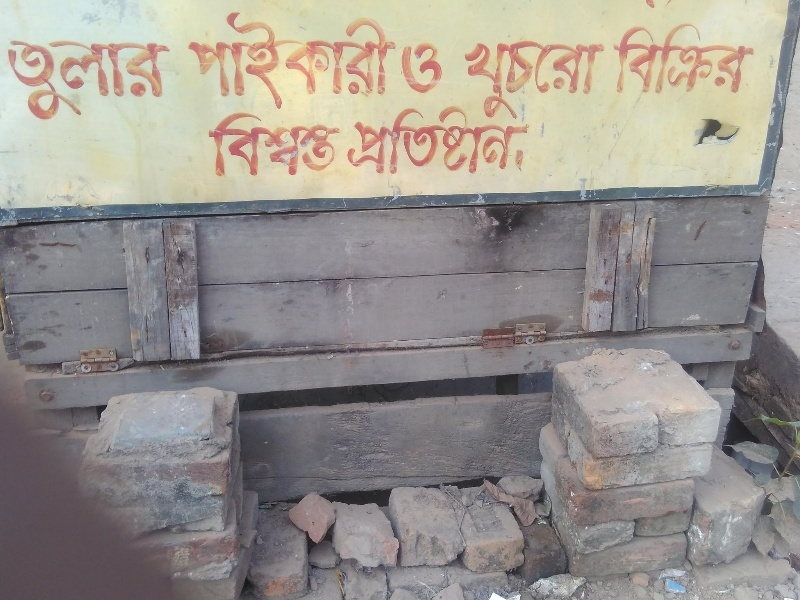text: (193, 7, 208, 116), (209, 7, 224, 116), (225, 7, 240, 116), (241, 7, 256, 116), (257, 7, 272, 116), (273, 7, 288, 116), (289, 7, 304, 116), (305, 7, 320, 116), (321, 7, 336, 116), (337, 7, 352, 116), (353, 7, 368, 116), (369, 7, 384, 116), (385, 7, 398, 116), (17, 36, 32, 128), (33, 36, 48, 128), (49, 36, 64, 128), (65, 36, 80, 128), (81, 36, 96, 128), (97, 36, 112, 128), (113, 36, 128, 128), (129, 36, 144, 128), (145, 36, 160, 128), (465, 38, 480, 120), (481, 38, 496, 120), (497, 38, 512, 120), (513, 38, 528, 120), (529, 38, 544, 120), (545, 38, 560, 120), (561, 38, 576, 120), (577, 38, 592, 120), (593, 38, 608, 120), (625, 23, 640, 99), (641, 23, 656, 99), (657, 23, 672, 99), (673, 23, 688, 99), (689, 23, 704, 99), (705, 23, 720, 99), (721, 23, 736, 99), (737, 23, 752, 99), (209, 109, 224, 185), (225, 109, 240, 185), (241, 109, 256, 185), (257, 109, 272, 185), (273, 109, 288, 185), (289, 109, 304, 185), (305, 109, 320, 185), (321, 109, 336, 185), (4, 36, 16, 128), (353, 106, 368, 178), (369, 106, 384, 178), (385, 106, 400, 178), (401, 106, 416, 178), (417, 106, 432, 178), (433, 106, 448, 178), (449, 106, 464, 178), (465, 106, 480, 178), (481, 106, 496, 178), (497, 106, 512, 178), (513, 106, 528, 178), (417, 40, 432, 96), (161, 36, 170, 128), (402, 40, 416, 96), (614, 23, 624, 99), (609, 38, 617, 120), (186, 7, 192, 116), (337, 109, 345, 185), (433, 40, 442, 96), (345, 106, 352, 178), (753, 23, 756, 99), (462, 38, 464, 120), (529, 106, 530, 178)
